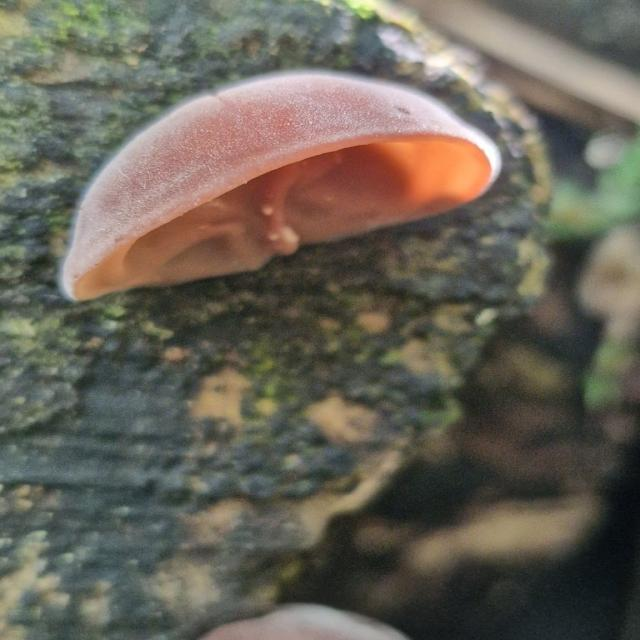Fase Muda: (53, 67, 510, 305)
